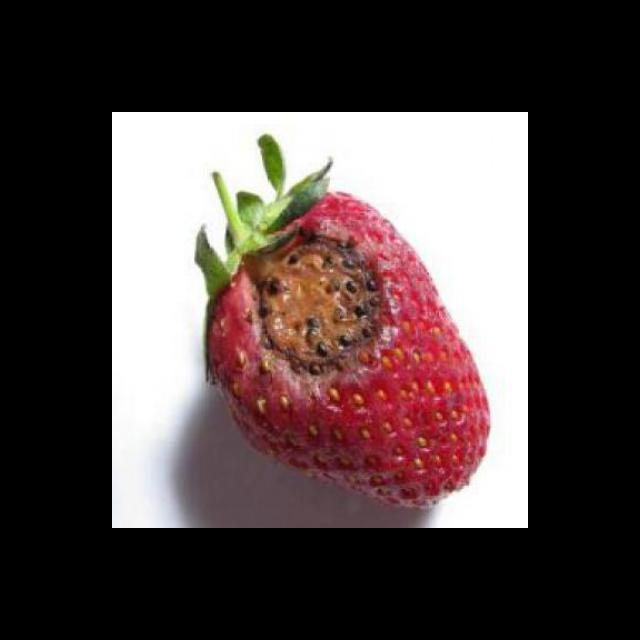Anthracnose Fruit Rot: (232, 214, 403, 399)
